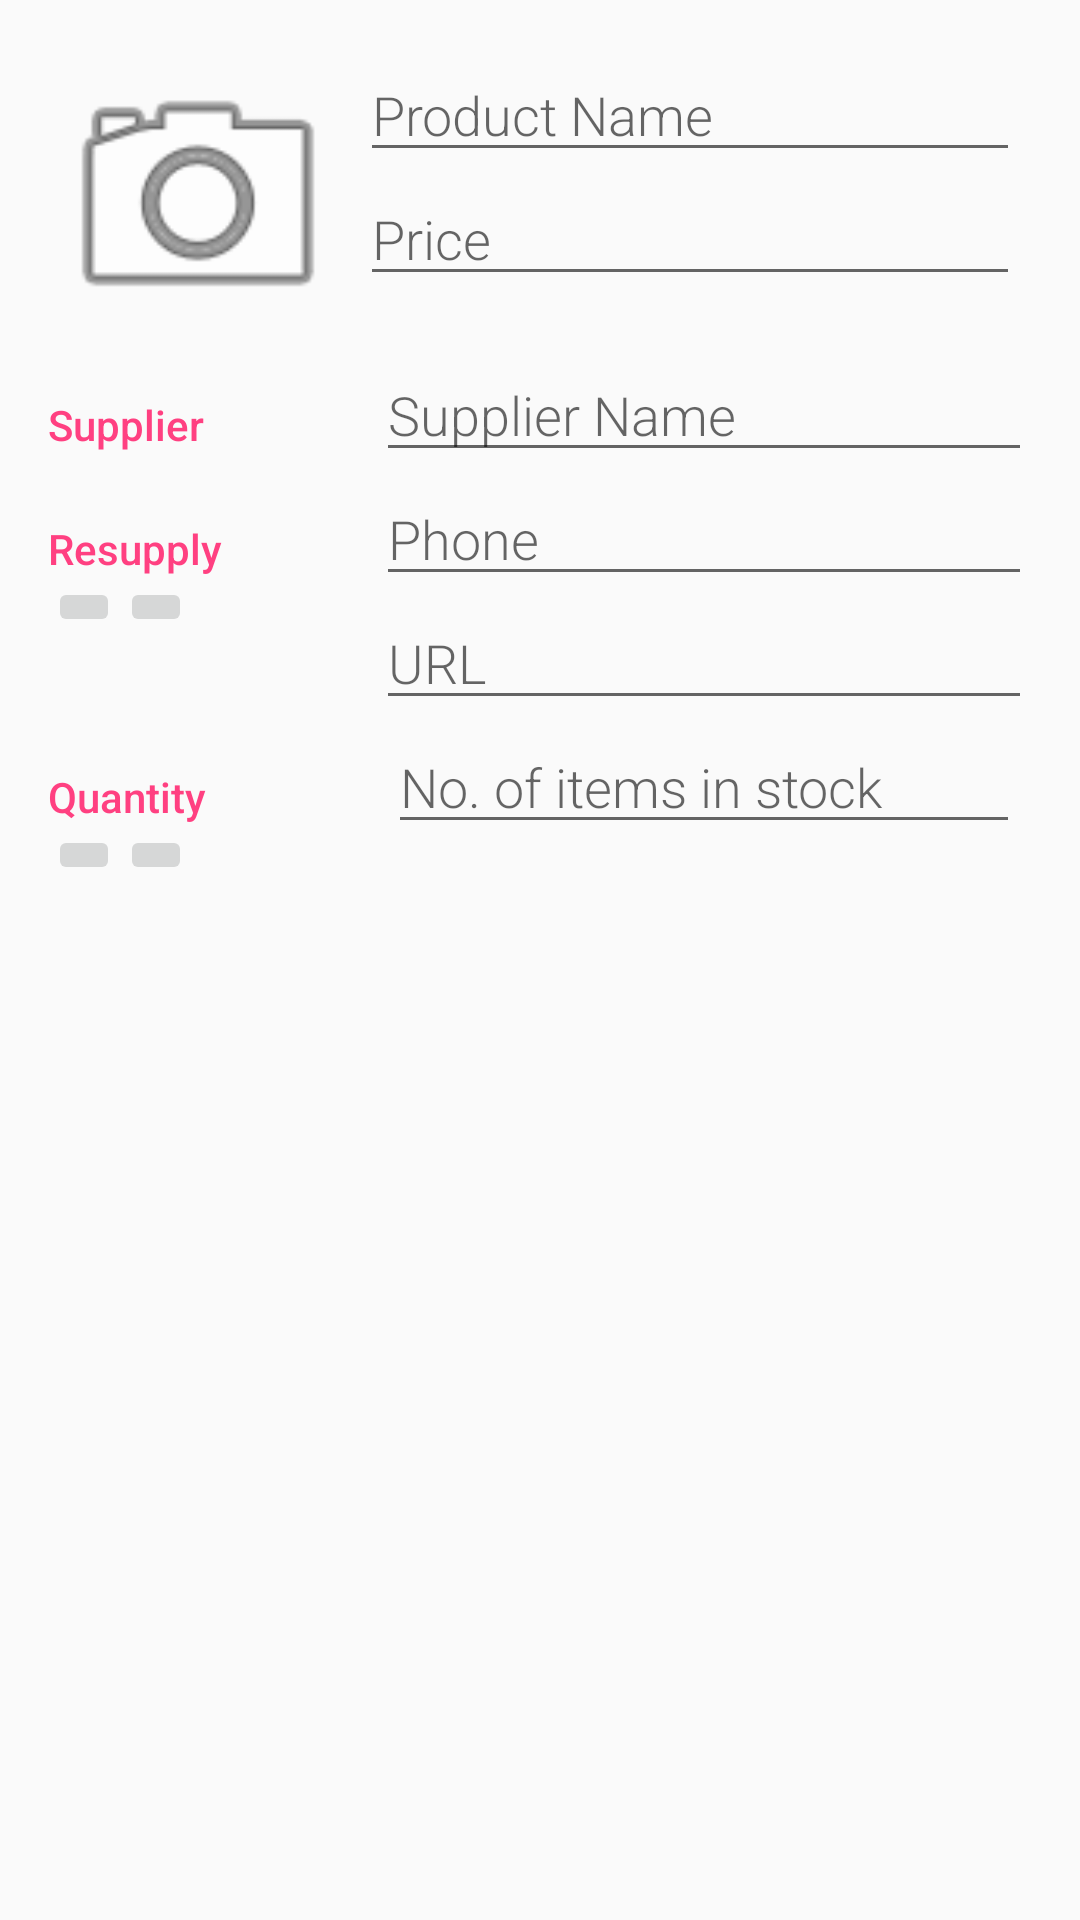

Where icons sit on this 1080×1920 app screen, as box(x1, y1, x2, y2):
Click to change product image: box(82, 101, 314, 286)
